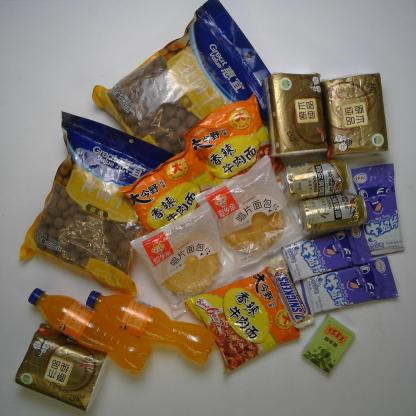Alcohol: (278, 154, 354, 206), (295, 190, 371, 236)
Candy: (301, 254, 402, 317), (281, 224, 376, 286), (351, 160, 406, 261), (299, 312, 355, 379)
Chocolate: (258, 247, 316, 330)
Dessert: (129, 201, 252, 318), (194, 152, 312, 272)
Dried Food: (92, 0, 289, 170), (16, 108, 183, 301)
Drink: (25, 286, 153, 376), (83, 288, 218, 365)
Instant Noodles: (182, 266, 301, 378), (182, 94, 292, 204), (119, 140, 223, 251)
Tissue: (12, 321, 112, 411), (317, 67, 391, 165), (260, 71, 330, 162)
